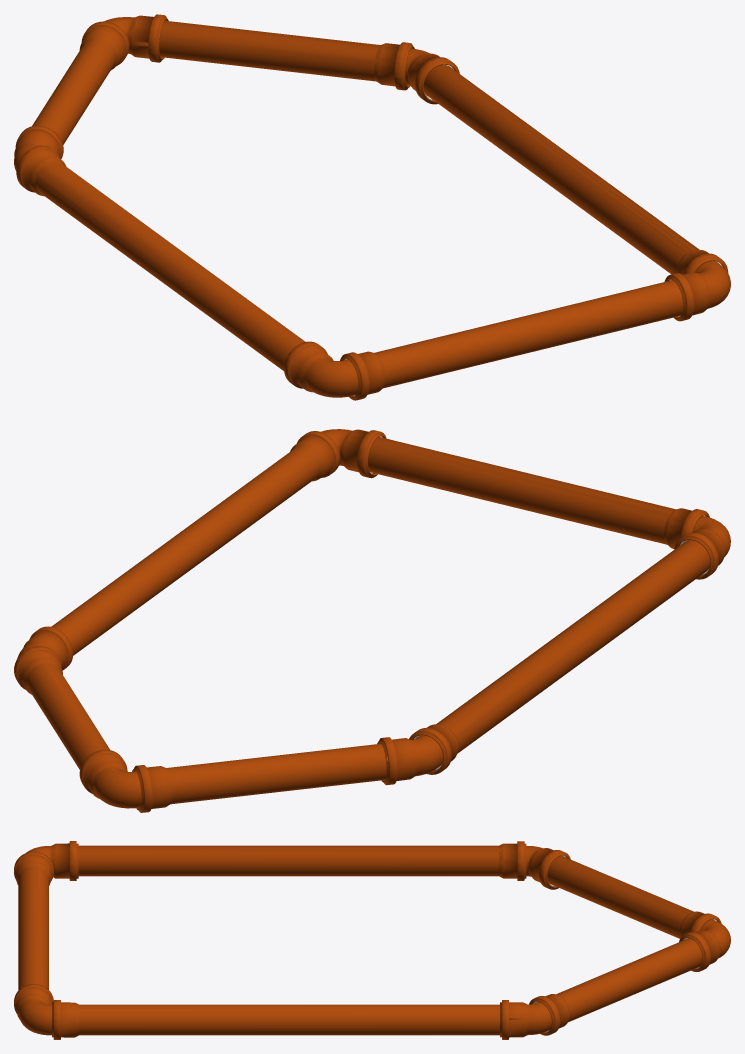
The picture shows the model from 3 angles, top to bottom: view 1: azimuth 30°, elevation 25°; view 2: azimuth 150°, elevation 25°; view 3: azimuth 270°, elevation 25°; orthographic projection. The views are drawn at different scales.
Parts seen in each view (by area): view 1: TRUBA 1700 mm.005; view 2: TRUBA 1700 mm.005; view 3: TRUBA 1700 mm.005.
Part boxes in pixels (<box>): TRUBA 1700 mm.005: <box>14,14,730,400</box>; TRUBA 1700 mm.005: <box>14,429,730,812</box>; TRUBA 1700 mm.005: <box>14,841,730,1039</box>.
Bounding box in the file's own units: 1.5 × 0.1445 × 2.59.
2 materials, 1 textured.
